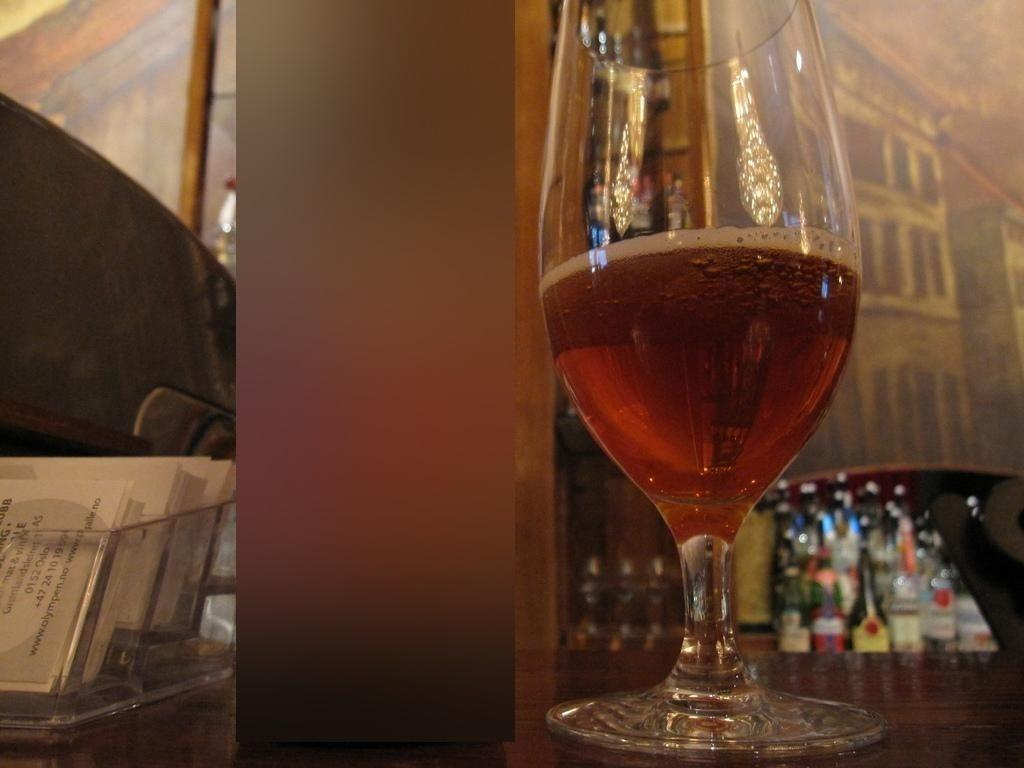glass-wine: (530, 1, 898, 759)
